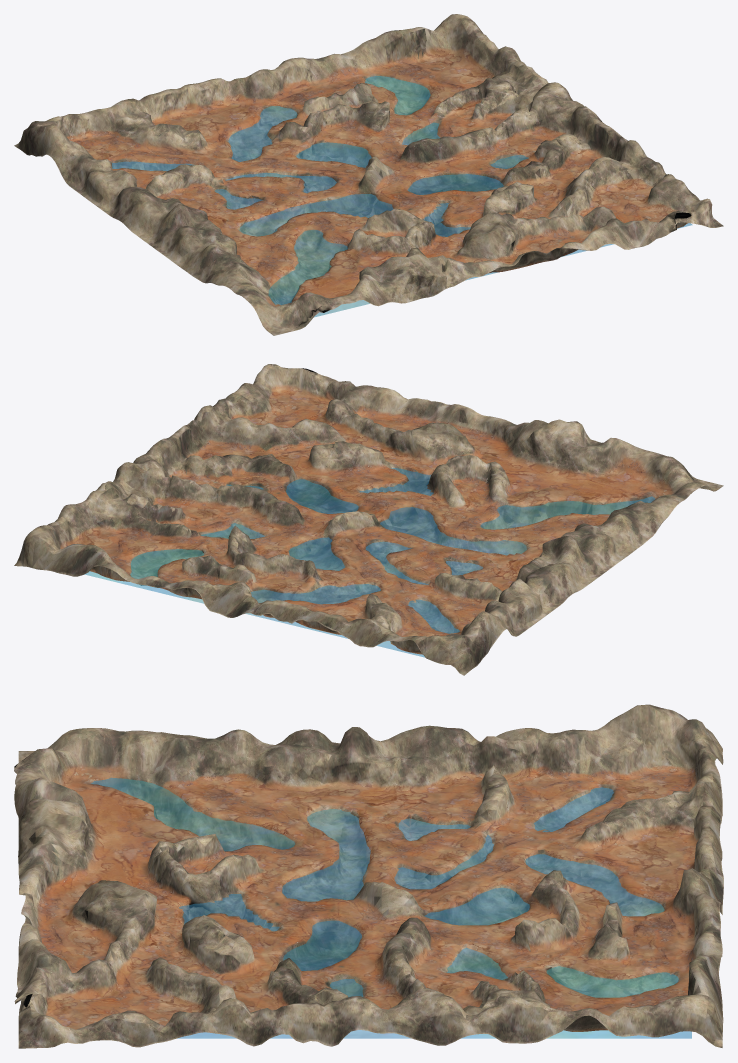
Rendered from pantano.dae.
3 views of the same model, one above another, from view 1: azimuth 30°, elevation 25°; view 2: azimuth 150°, elevation 25°; view 3: azimuth 270°, elevation 25° (orthographic). The views are drawn at different scales.
Visible parts, largest first — view 1: Terrain, WaterPlane; view 2: Terrain, WaterPlane; view 3: Terrain, WaterPlane.
Boxes of the visible parts, <box> form: Terrain: <box>14,14,723,335</box>; WaterPlane: <box>112,76,692,317</box>; Terrain: <box>14,364,723,675</box>; WaterPlane: <box>85,468,654,657</box>; Terrain: <box>14,704,723,1048</box>; WaterPlane: <box>91,777,691,1038</box>.
Bounding box in the file's own units: 402 × 401 × 50.6.
2 materials, 2 textured.
